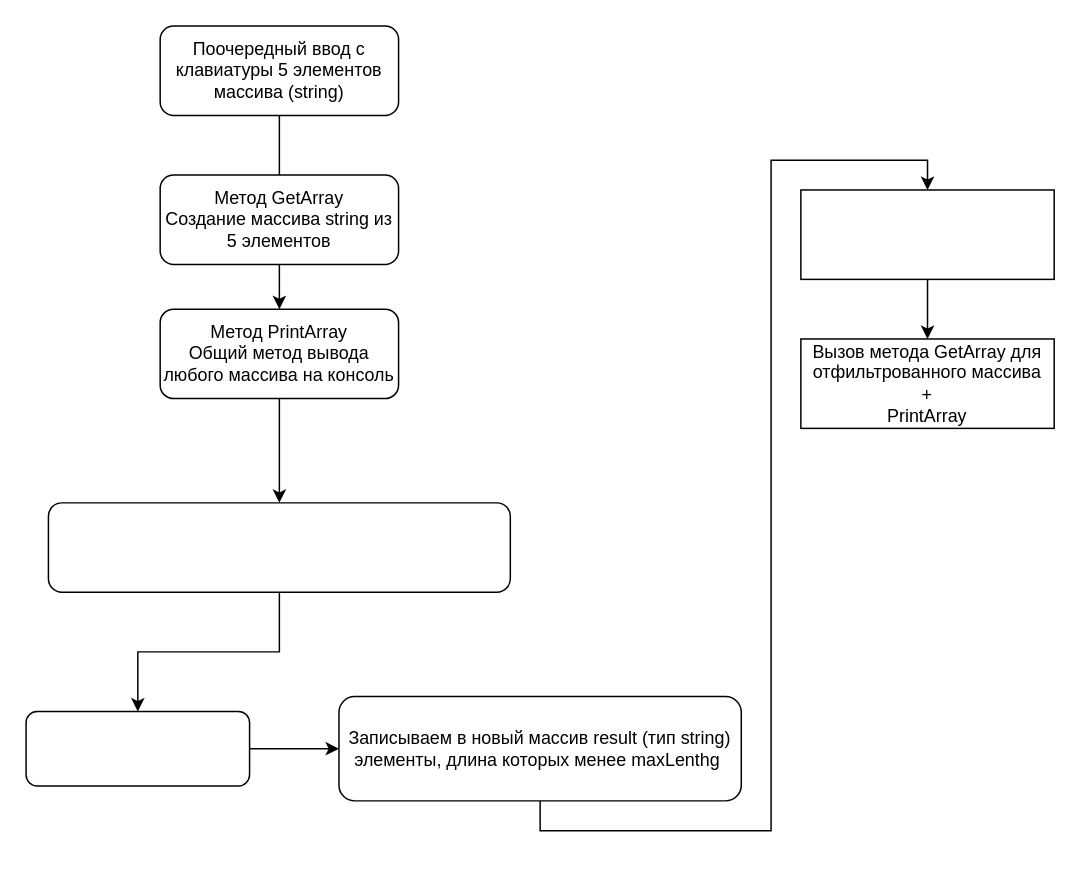
This 1080x869 diagram has some shape labels left out. Here are the shapes that lost their labels. From the top down, the box of each, then its label:
(799, 188, 1054, 279): Вызов метода GetArray для изначального массива + PrintArray
(47, 501, 510, 592): Метод FilterArrayByLength Создание отфильтрованного массива [array, maxLength]
(25, 710, 250, 786): Подсчитываем длину каждого элемента (цикл for)
